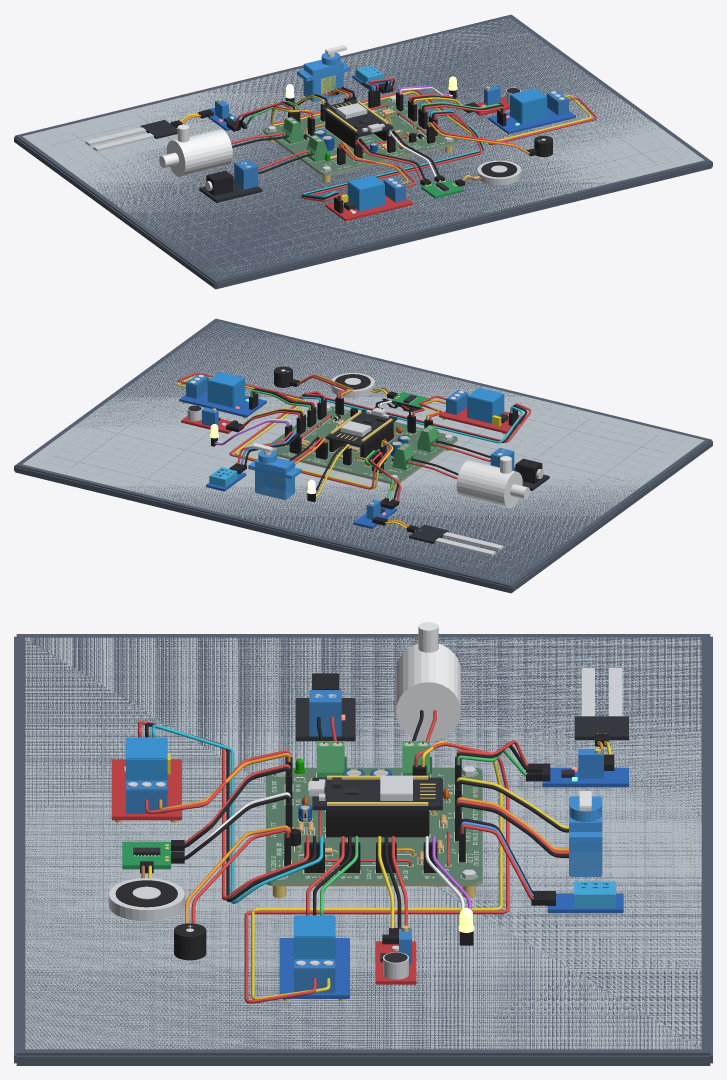
Rendered from system_wired_assembly.glb.
The picture shows the model from 3 angles, top to bottom: view 1: azimuth 30°, elevation 25°; view 2: azimuth 150°, elevation 25°; view 3: azimuth 270°, elevation 25°; orthographic projection. The views are drawn at different scales.
Visible parts, largest first — view 1: Workbench_Bezel, Workbench_Surface, =>[0:1:1:26], =>[0:1:1:28], Pump_Body, SG90_Body, Rly1_SongleCube, Rly2_SongleCube, Rly1_BluePCB, Wire_W13_J8_relay1_pump_Red, Wire_W14_J8_relay1_pump_Yellow, NodeMCU_PCB (+12 smaller); view 2: Workbench_Surface, Workbench_Bezel, =>[0:1:1:26], =>[0:1:1:28], Pump_Body, SG90_Body, Rly1_SongleCube, Rly2_SongleCube, Wire_W13_J8_relay1_pump_Red, Rly1_BluePCB, NodeMCU_PCB, Wire_W14_J8_relay1_pump_Yellow (+11 smaller); view 3: Workbench_Surface, Workbench_Bezel, =>[0:1:1:26], =>[0:1:1:28], Pump_Body, Wire_W13_J8_relay1_pump_Red, NodeMCU_PCB, =>[0:1:1:3].001, Rly2_RedPCB, Rly1_BluePCB, Rly1_SongleCube, Rly2_SongleCube (+29 smaller).
Boxes of the visible parts, x1,y1,x2,y2 form: Workbench_Bezel: (14,14,712,289); Workbench_Surface: (22,17,704,277); =>[0:1:1:26]: (263,97,457,173); =>[0:1:1:28]: (263,98,457,176); Pump_Body: (166,129,232,176); SG90_Body: (303,59,343,102); Rly1_SongleCube: (510,88,547,124); Rly2_SongleCube: (347,175,384,211); Rly1_BluePCB: (488,108,575,134); Wire_W13_J8_relay1_pump_Red: (270,90,596,144); Wire_W14_J8_relay1_pump_Yellow: (271,91,591,144); NodeMCU_PCB: (321,99,393,136); Workbench_Surface: (22,321,704,582); Workbench_Bezel: (14,318,712,593); =>[0:1:1:26]: (271,406,457,482); =>[0:1:1:28]: (274,407,457,484); Pump_Body: (456,460,522,508); SG90_Body: (255,457,294,500); Rly1_SongleCube: (207,371,244,407); Rly2_SongleCube: (467,387,504,423); Wire_W13_J8_relay1_pump_Red: (178,372,390,489); Rly1_BluePCB: (179,391,266,417); NodeMCU_PCB: (325,409,397,446); Wire_W14_J8_relay1_pump_Yellow: (176,375,393,488); Workbench_Surface: (25,637,701,1049); Workbench_Bezel: (14,634,712,1065); =>[0:1:1:26]: (266,767,482,882); =>[0:1:1:28]: (266,768,482,885); Pump_Body: (396,644,460,740); Wire_W13_J8_relay1_pump_Red: (244,742,509,1003); NodeMCU_PCB: (312,777,442,810); =>[0:1:1:3].001: (326,816,429,837); Rly2_RedPCB: (111,759,181,820); Rly1_BluePCB: (279,938,349,998); Rly1_SongleCube: (293,915,335,972); Rly2_SongleCube: (125,737,167,794).
Size of the model in its own units: 0.368 by 0.0382 by 0.258.
